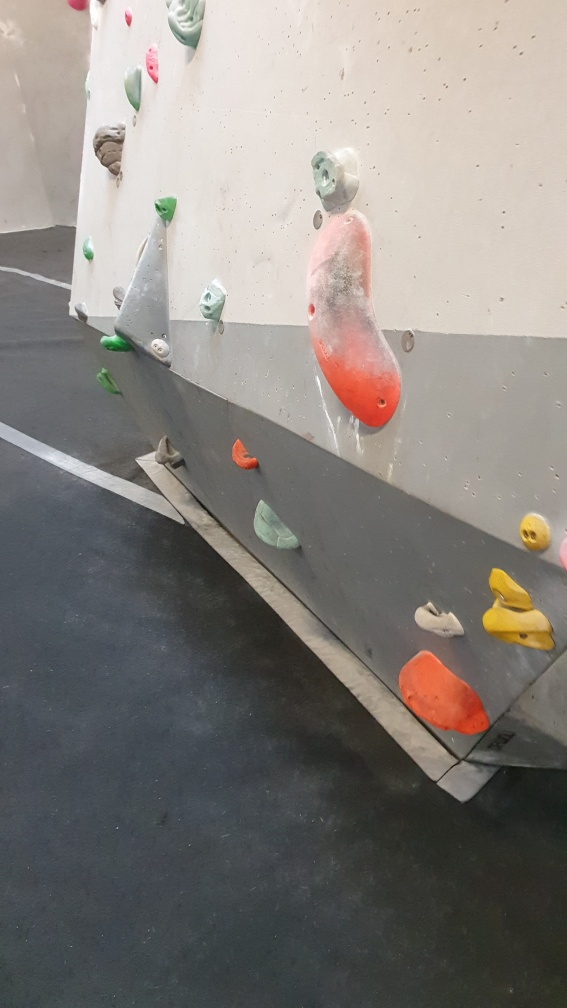Pinch: (306, 211, 404, 434)
